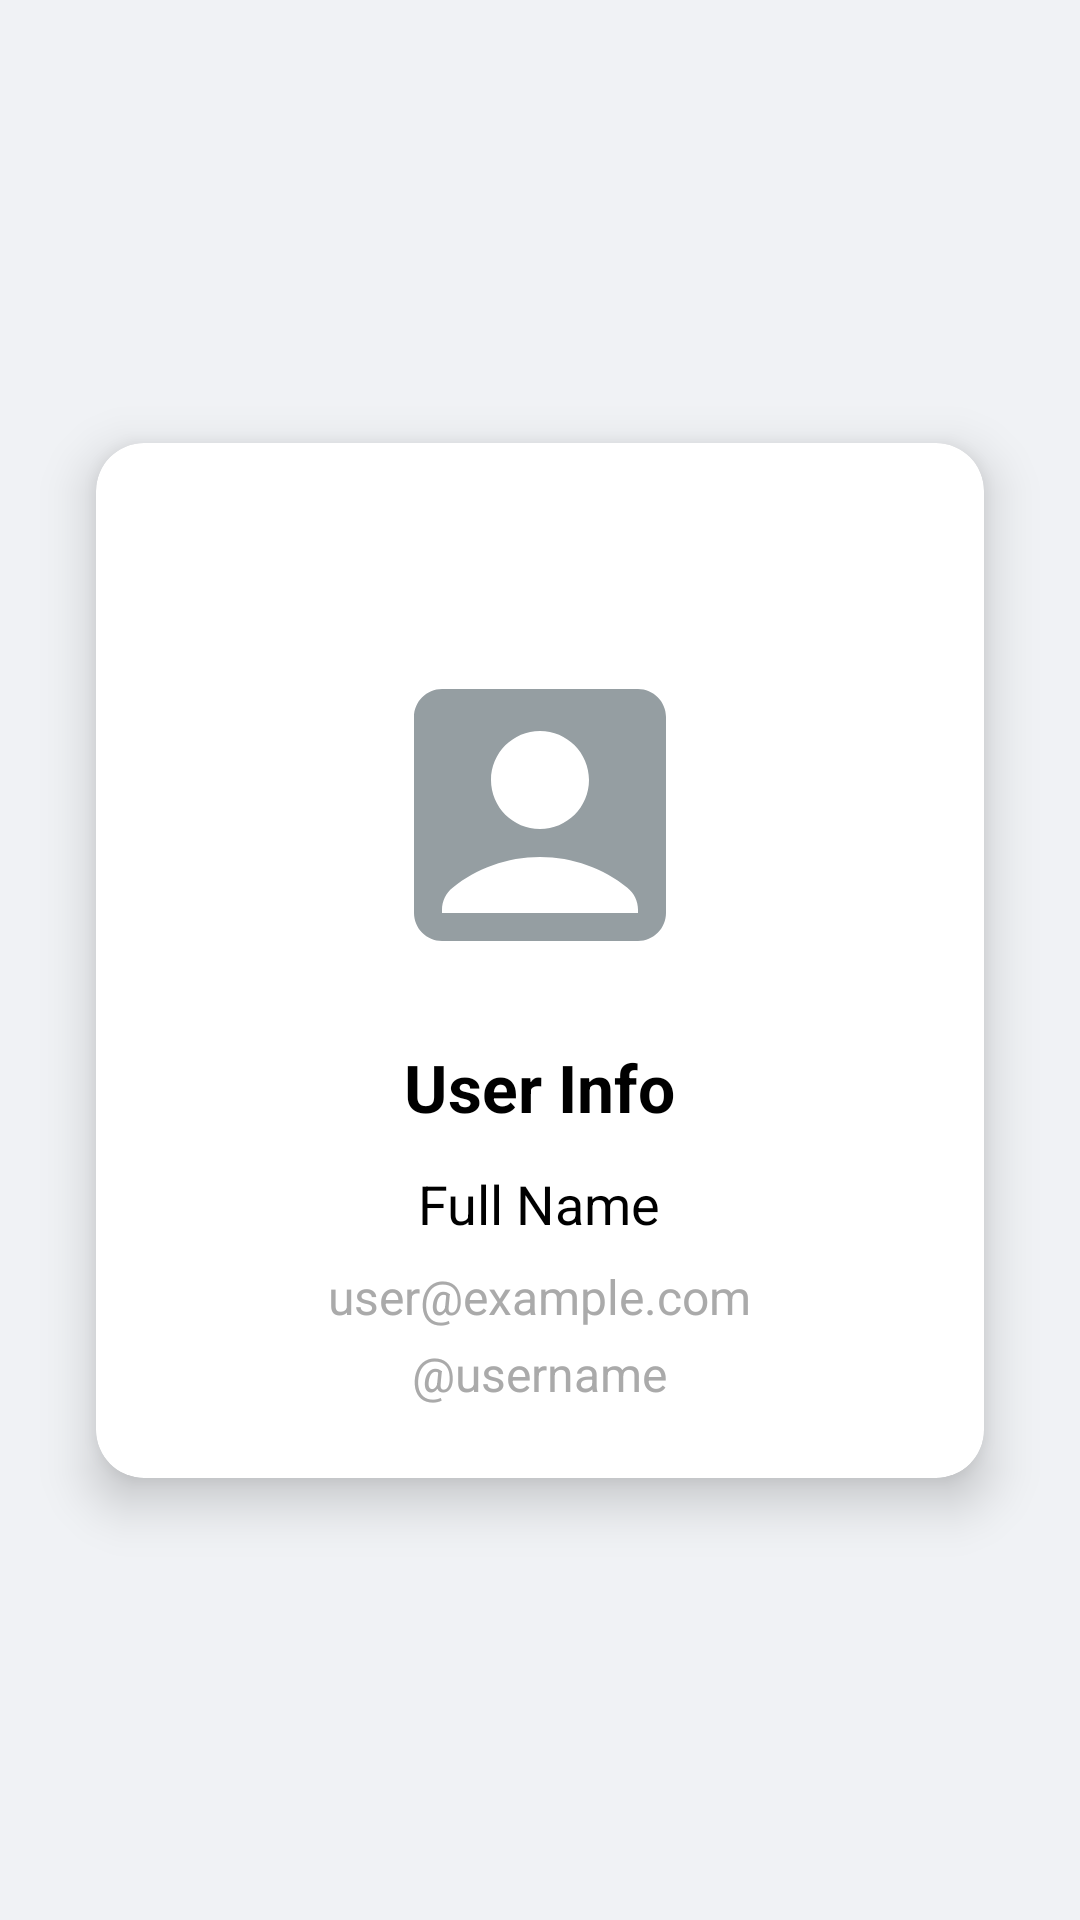

Locate icon controls on the screen. Image size 1080×1920, boxes as (x1, y1, x2, y2).
profile: (414, 689, 666, 941)
